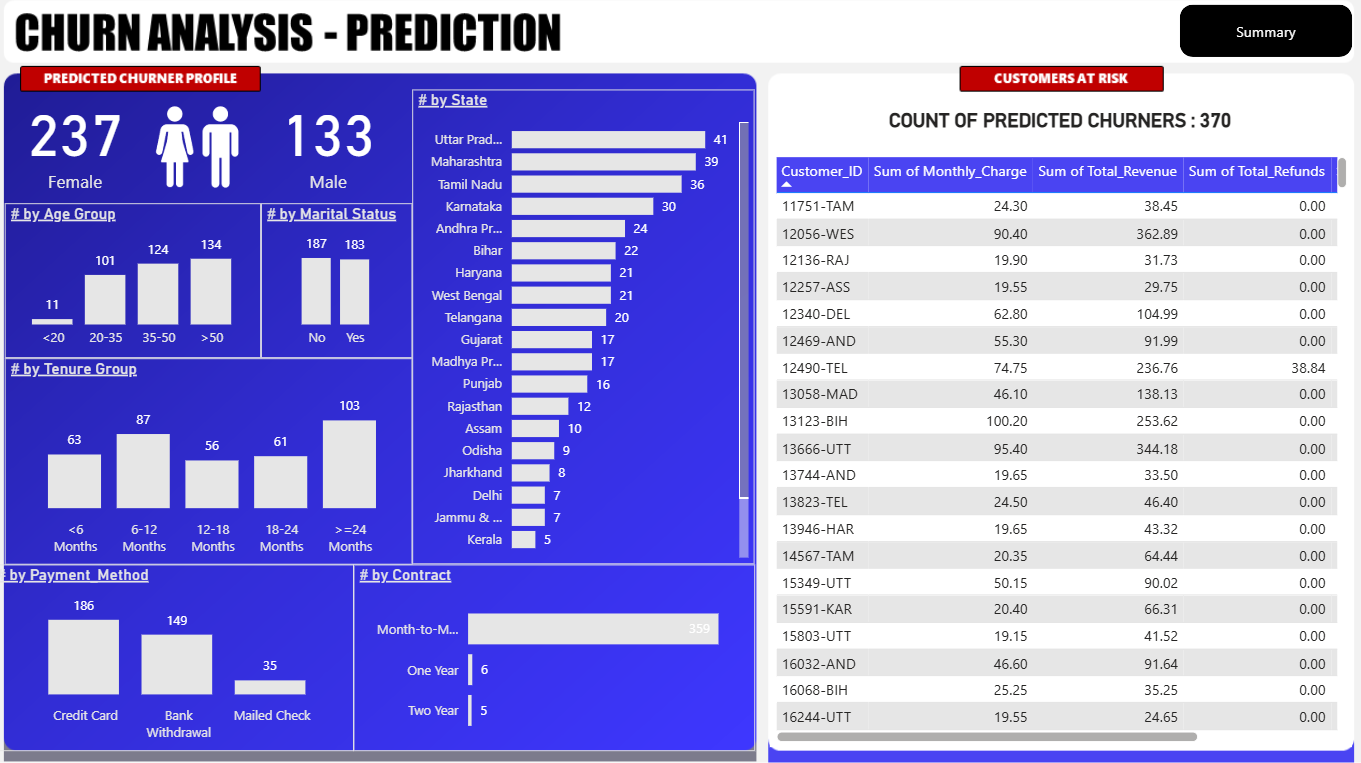

The dashboard page shown, as its layout file describes it:
{"tool":"powerbi","page":{"name":"Churn Prediction","canvas":[1280,720],"ordinal":2},"visuals":[{"type":"tableEx","fields":{"Values":["predictions.Customer_ID","Sum(predictions.Monthly_Charge)","Sum(predictions.Total_Revenue)","Sum(predictions.Total_Refunds)","Sum(predictions.Number_of_Referrals)"]},"box":[724.4,148.8,541.9,553.5],"z":0},{"type":"card","fields":{"Values":["Table_measures.Title Predicted Churners"]},"box":[753.5,103.5,482.6,53.5],"z":1},{"type":"card","fields":{"Values":["Table_measures.Count Predicted Churner"]},"box":[12.8,79.1,131.4,117.4],"z":2},{"type":"card","fields":{"Values":["Table_measures.Count Predicted Churner"]},"box":[251.2,79.1,125.6,117.4],"z":3},{"type":"clusteredColumnChart","fields":{"Category":["mapping_AgeGrp.Age Group"],"Y":["CountNonNull(predictions.Customer_ID)"]},"box":[12.8,196.5,238.4,144.2],"z":4},{"type":"clusteredColumnChart","fields":{"Category":["predictions.Married"],"Y":["CountNonNull(predictions.Customer_ID)"]},"box":[251.2,196.5,140.7,144.2],"z":5},{"type":"clusteredColumnChart","fields":{"Y":["CountNonNull(predictions.Customer_ID)"],"Category":["mapping_tenureGrp.Tenure Group"]},"box":[12.8,340.7,379.1,191.9],"z":6},{"type":"clusteredBarChart","fields":{"Y":["CountNonNull(predictions.Customer_ID)"],"Category":["predictions.Contract"]},"box":[337.2,532.6,373.3,173.3],"z":7},{"type":"clusteredBarChart","fields":{"Y":["CountNonNull(predictions.Customer_ID)"],"Category":["predictions.State"]},"box":[391.9,90.7,318.6,441.9],"z":8},{"type":"clusteredColumnChart","fields":{"Y":["CountNonNull(predictions.Customer_ID)"],"Category":["predictions.Payment_Method"]},"box":[0,532.6,337.2,173.3],"z":9},{"type":"image","box":[132.6,90.7,118.6,105.8],"z":10},{"type":"shape","box":[1105.8,11.6,160.5,48.8],"z":11}]}

Visuals, with their boxes in screenshot pixels (x1, y1, x2, y2), scaled from the page's 1280x720 canvas onto the 1361x763 screenshot:
tableEx - predictions.Customer_ID x Sum(predictions.Monthly_Charge): x1=770 y1=158 x2=1346 y2=744
card - Table_measures.Title Predicted Churners: x1=801 y1=110 x2=1314 y2=166
card - Table_measures.Count Predicted Churner: x1=14 y1=84 x2=153 y2=208
card - Table_measures.Count Predicted Churner: x1=267 y1=84 x2=401 y2=208
clusteredColumnChart - mapping_AgeGrp.Age Group x CountNonNull(predictions.Customer_ID): x1=14 y1=208 x2=267 y2=361
clusteredColumnChart - predictions.Married x CountNonNull(predictions.Customer_ID): x1=267 y1=208 x2=417 y2=361
clusteredColumnChart - CountNonNull(predictions.Customer_ID) x mapping_tenureGrp.Tenure Group: x1=14 y1=361 x2=417 y2=564
clusteredBarChart - CountNonNull(predictions.Customer_ID) x predictions.Contract: x1=359 y1=564 x2=755 y2=748
clusteredBarChart - CountNonNull(predictions.Customer_ID) x predictions.State: x1=417 y1=96 x2=755 y2=564
clusteredColumnChart - CountNonNull(predictions.Customer_ID) x predictions.Payment_Method: x1=0 y1=564 x2=359 y2=748
image: x1=141 y1=96 x2=267 y2=208
shape: x1=1176 y1=12 x2=1346 y2=64
